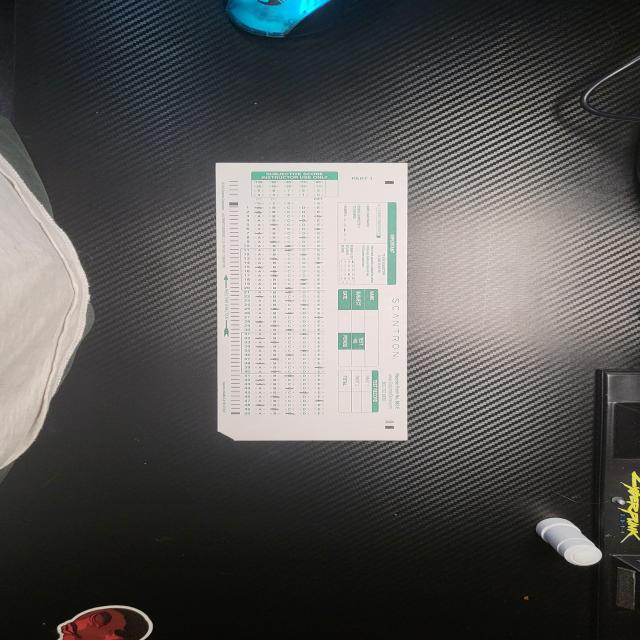scantron: (215, 162, 409, 441)
